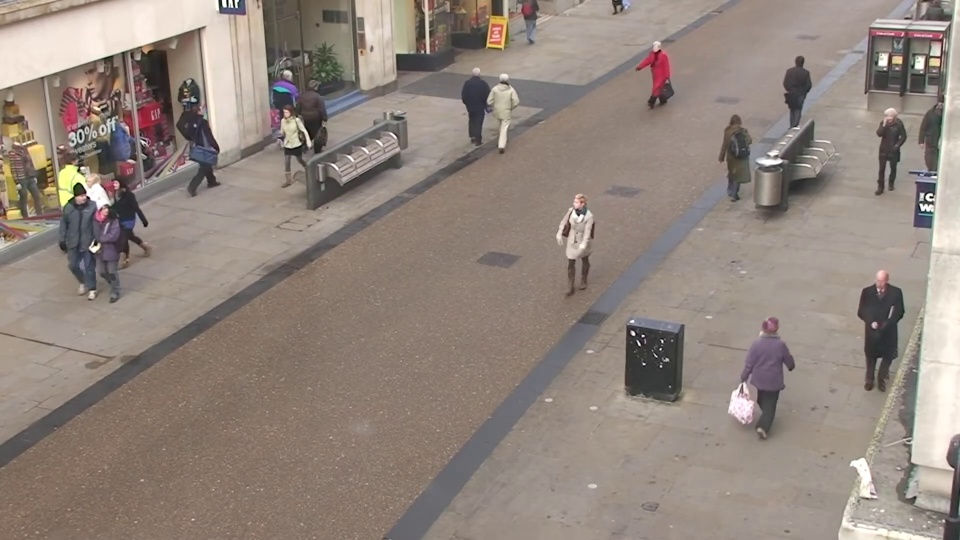pedestrian: (851, 270, 906, 408), (746, 299, 798, 443), (77, 196, 128, 311), (53, 186, 105, 298), (64, 169, 114, 277), (93, 172, 141, 280), (62, 143, 109, 244), (555, 195, 593, 313), (863, 107, 904, 204), (189, 95, 225, 183), (719, 109, 752, 203), (268, 103, 302, 194), (303, 74, 334, 156), (783, 53, 814, 133), (278, 64, 308, 144), (464, 63, 493, 144), (493, 65, 521, 146), (639, 39, 665, 114)
